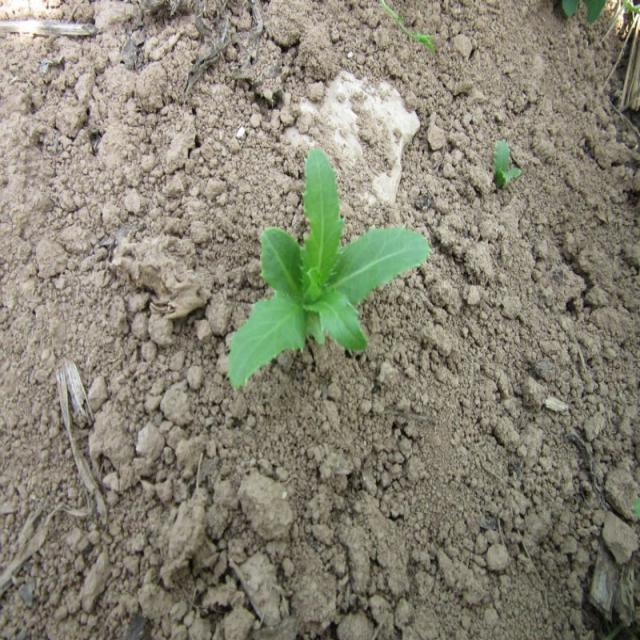cs: (223, 139, 436, 395)
